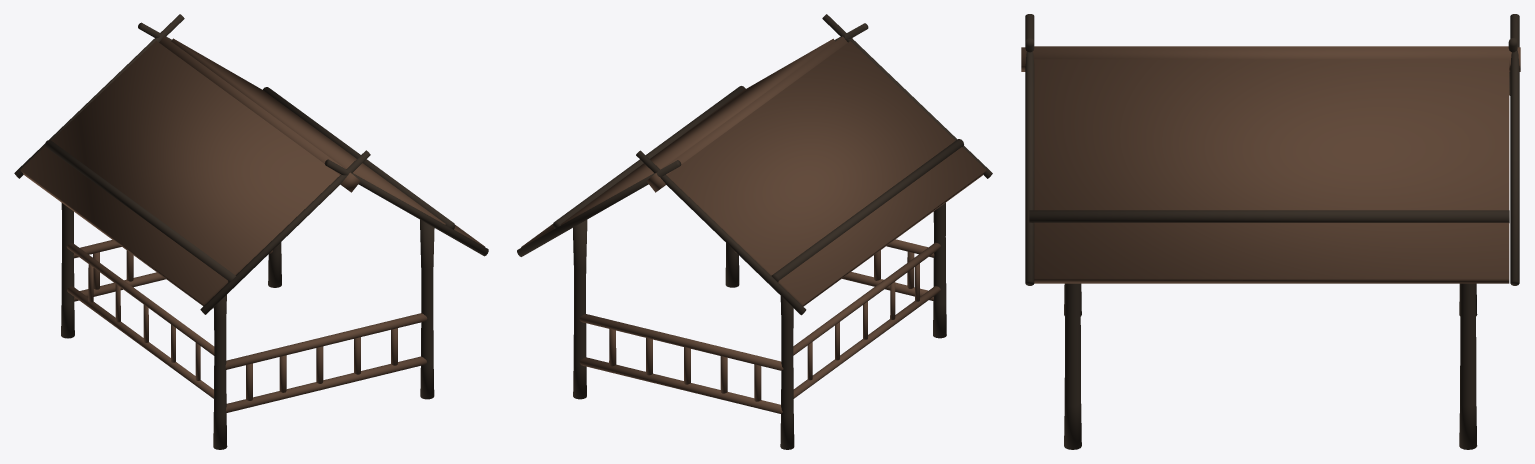
The model's file is tenda_madeira.fbx.
3 renders of one model, left to right at view 1: azimuth 30°, elevation 25°; view 2: azimuth 150°, elevation 25°; view 3: azimuth 270°, elevation 25°, orthographic. The views are drawn at different scales.
Parts seen in each view (by area): view 1: cabana_Felipe; view 2: cabana_Felipe; view 3: cabana_Felipe.
Part boxes in pixels (left/top/right/bottom): cabana_Felipe: left=14, top=14, right=488, bottom=449; cabana_Felipe: left=517, top=14, right=992, bottom=449; cabana_Felipe: left=1021, top=14, right=1520, bottom=449.
Bounding box in the file's own units: 428 × 395 × 497.
